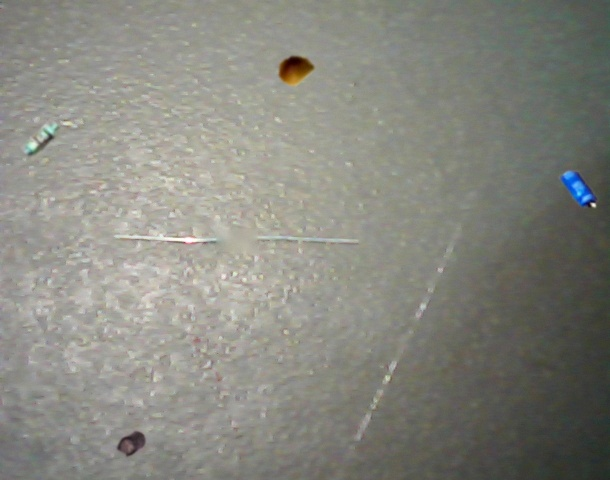capacitor: (559, 171, 598, 208), (279, 56, 315, 86), (117, 431, 146, 457)
resistor: (21, 119, 63, 160)
